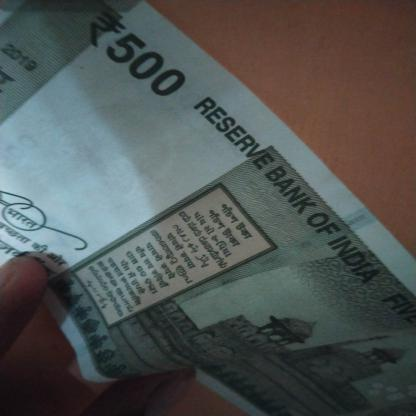New500Back: (5, 7, 415, 415)
